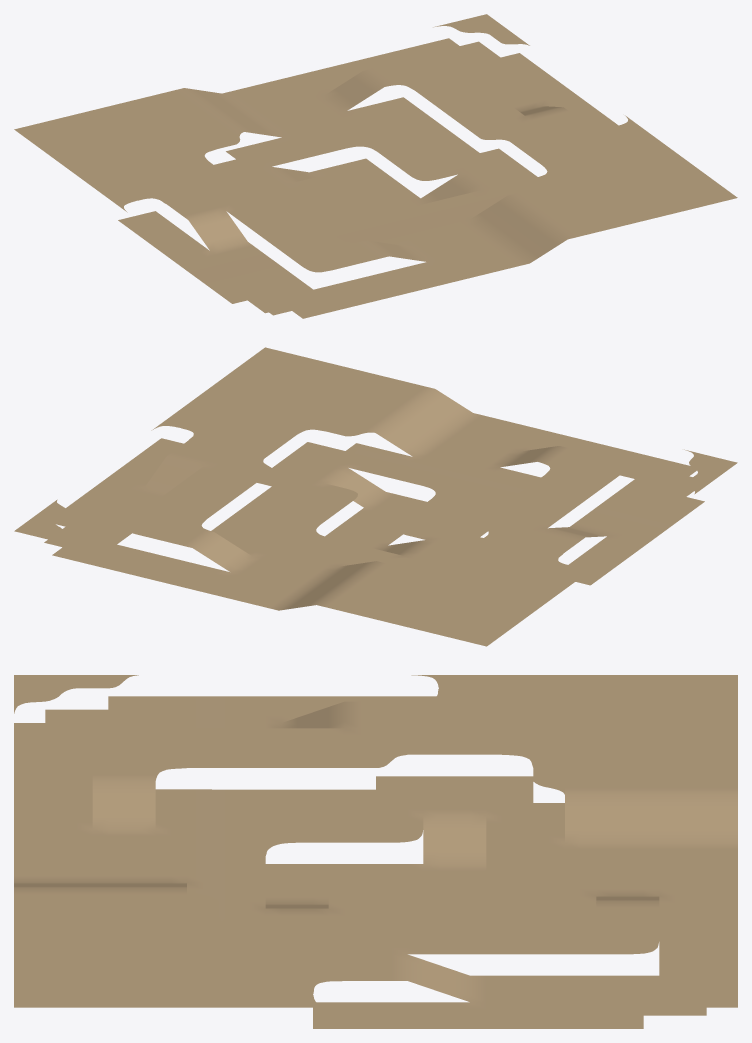
Rendered from map_layout.fbx.
3 renders of one model, top to bottom at view 1: azimuth 30°, elevation 25°; view 2: azimuth 150°, elevation 25°; view 3: azimuth 270°, elevation 25°, orthographic. The views are drawn at different scales.
Parts seen in each view (by area): view 1: layout; view 2: layout; view 3: layout.
Boxes of the visible parts, <box> form: layout: <box>14,14,737,318</box>; layout: <box>14,347,737,646</box>; layout: <box>14,675,737,1028</box>.
Size of the model in its own units: 5000 by 300 by 4600.
